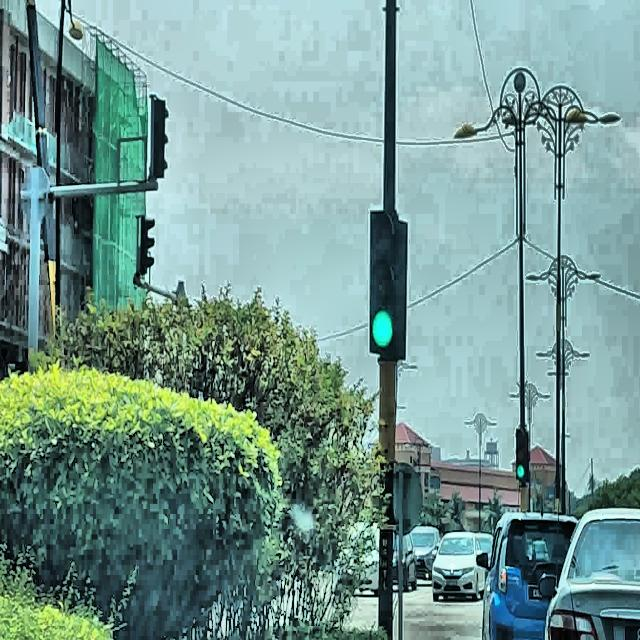green: (370, 210, 401, 354), (517, 429, 527, 481)
